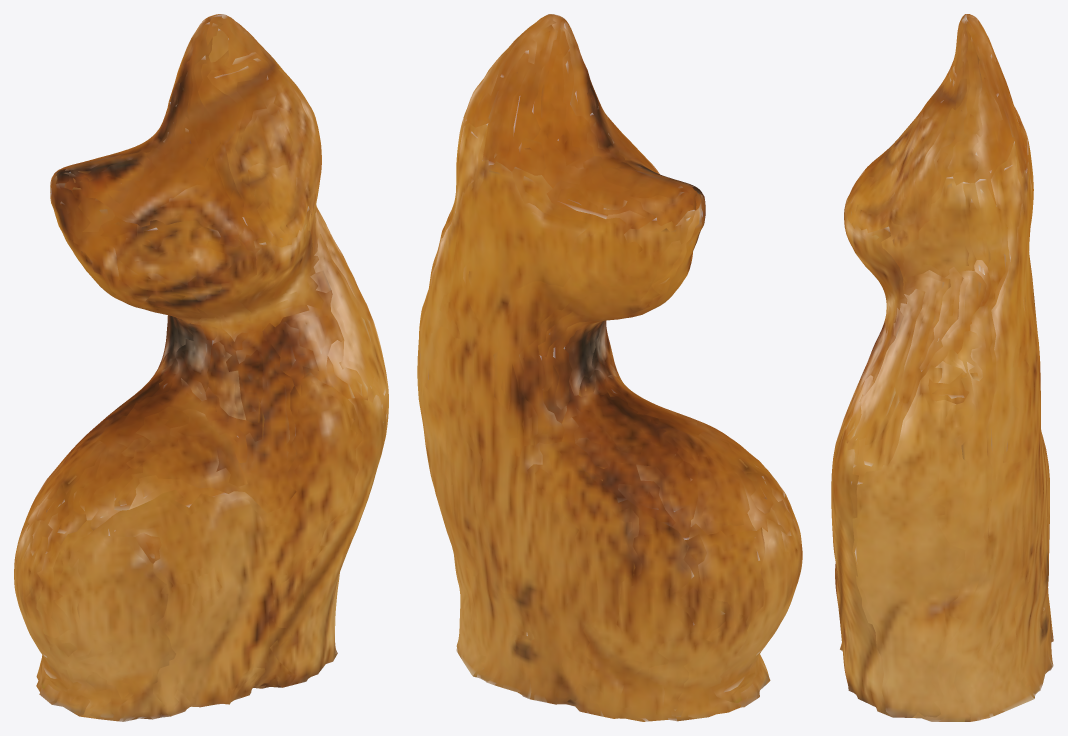
Rendered from wood_cat.glb.
3 views of the same model, side by side, from view 1: azimuth 30°, elevation 25°; view 2: azimuth 150°, elevation 25°; view 3: azimuth 270°, elevation 25° (orthographic). The views are drawn at different scales.
Parts seen in each view (by area): view 1: Object_2; view 2: Object_2; view 3: Object_2.
Boxes of the visible parts, left/top/right/bottom form: Object_2: left=14, top=14, right=388, bottom=721; Object_2: left=417, top=14, right=802, bottom=721; Object_2: left=831, top=14, right=1053, bottom=721.
Size of the model in its own units: 60.81 by 104 by 31.96.
Materials: 1 (1 with a texture image).
